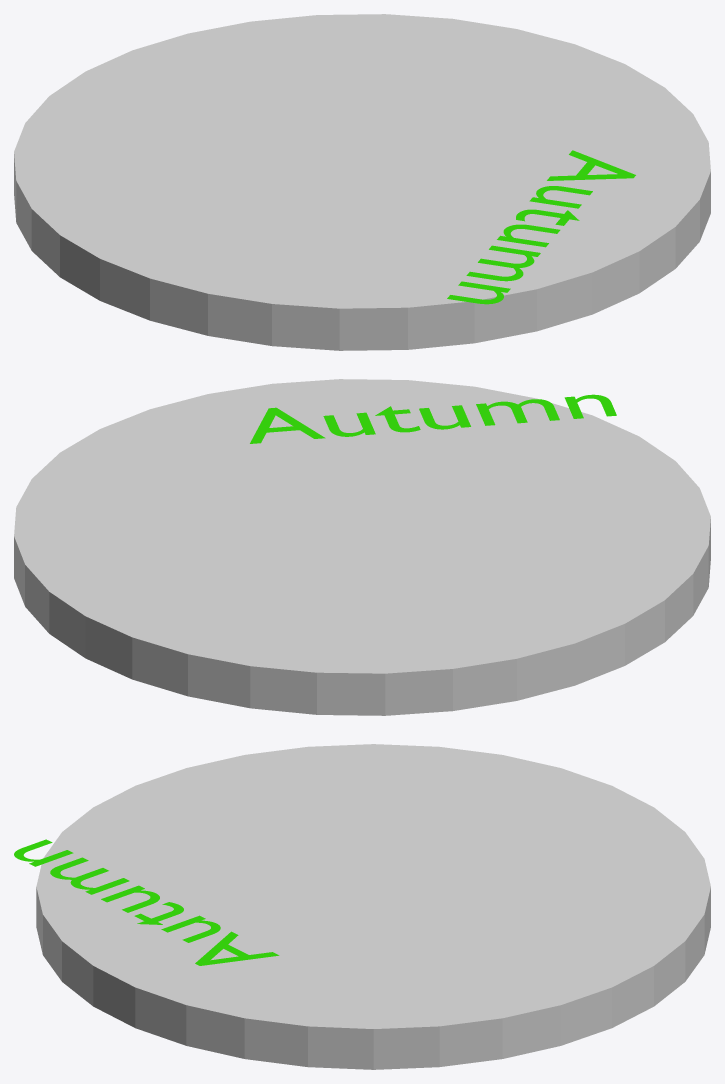
Rendered from TERRAIN_autumn.glb.
3 renders of one model, top to bottom at view 1: azimuth 30°, elevation 25°; view 2: azimuth 150°, elevation 25°; view 3: azimuth 270°, elevation 25°, orthographic. The views are drawn at different scales.
Visible parts, largest first — view 1: Cylinder, Text; view 2: Cylinder, Text; view 3: Cylinder, Text.
Part boxes in pixels (bbox=[...]): Cylinder: bbox=[14, 14, 710, 350]; Text: bbox=[447, 150, 635, 304]; Cylinder: bbox=[14, 379, 710, 715]; Text: bbox=[250, 394, 616, 443]; Cylinder: bbox=[36, 744, 710, 1069]; Text: bbox=[14, 839, 279, 965].
Bounding box in the file's own units: 6 × 0.4697 × 6.2.
